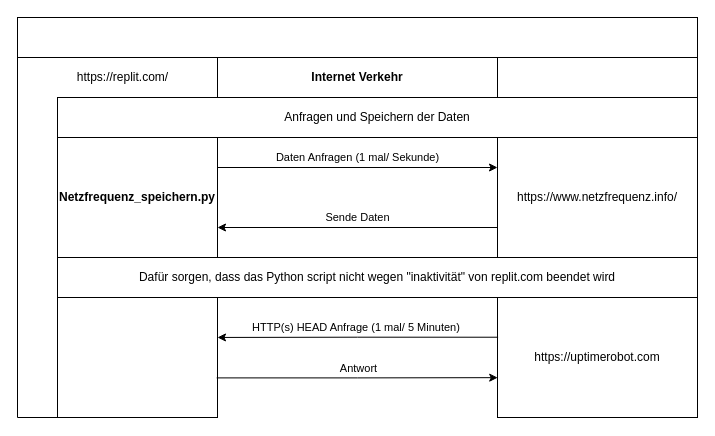
Image size: 715x436. Some labels were removed from this diagram. Here are the shapes that lost their labels. From the top down, the centre of each, then its label:
[357,37]: Netzfrequenz_speichern
[597,77]: Andere Webseiten
[137,357]: keep_alive.py
